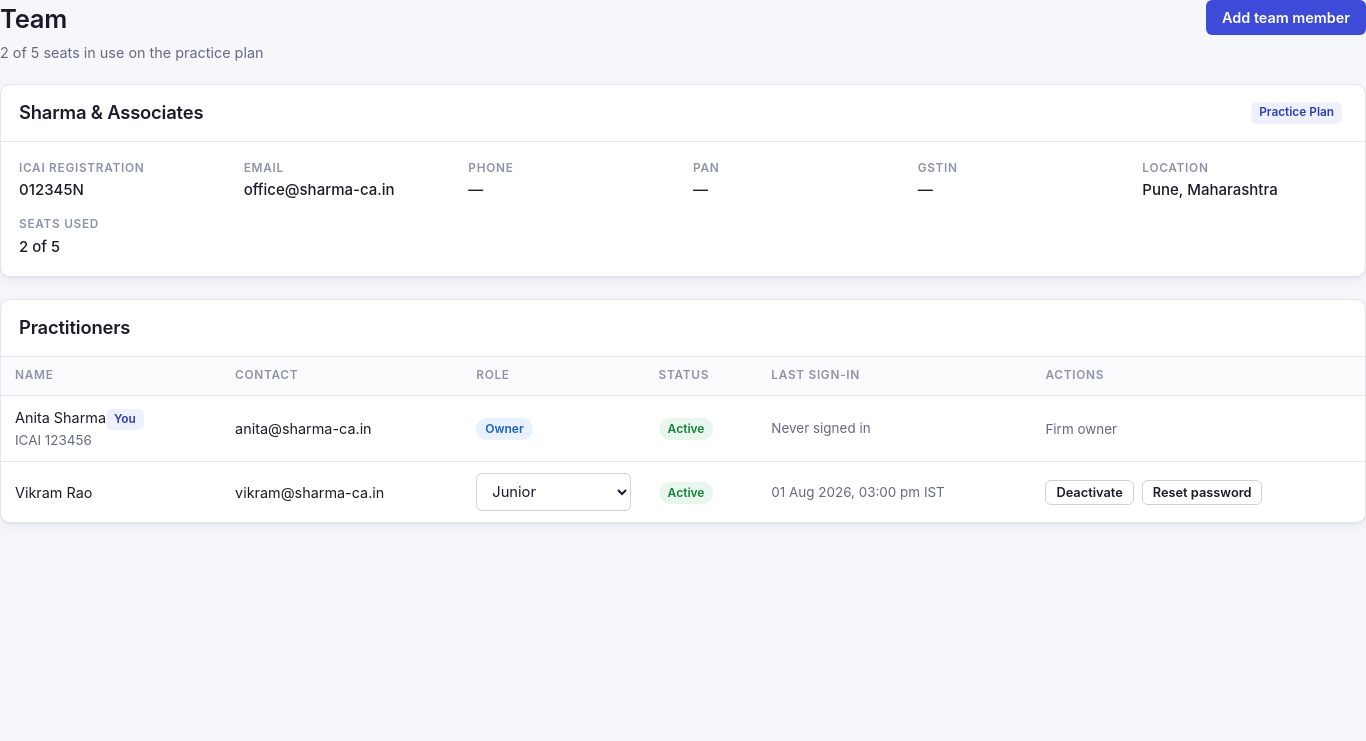
Test: Adding a member › explains what a role grants before it is handed over
Click the button "Add team member". click: x=1286, y=18
box: [1206,0,1365,35]
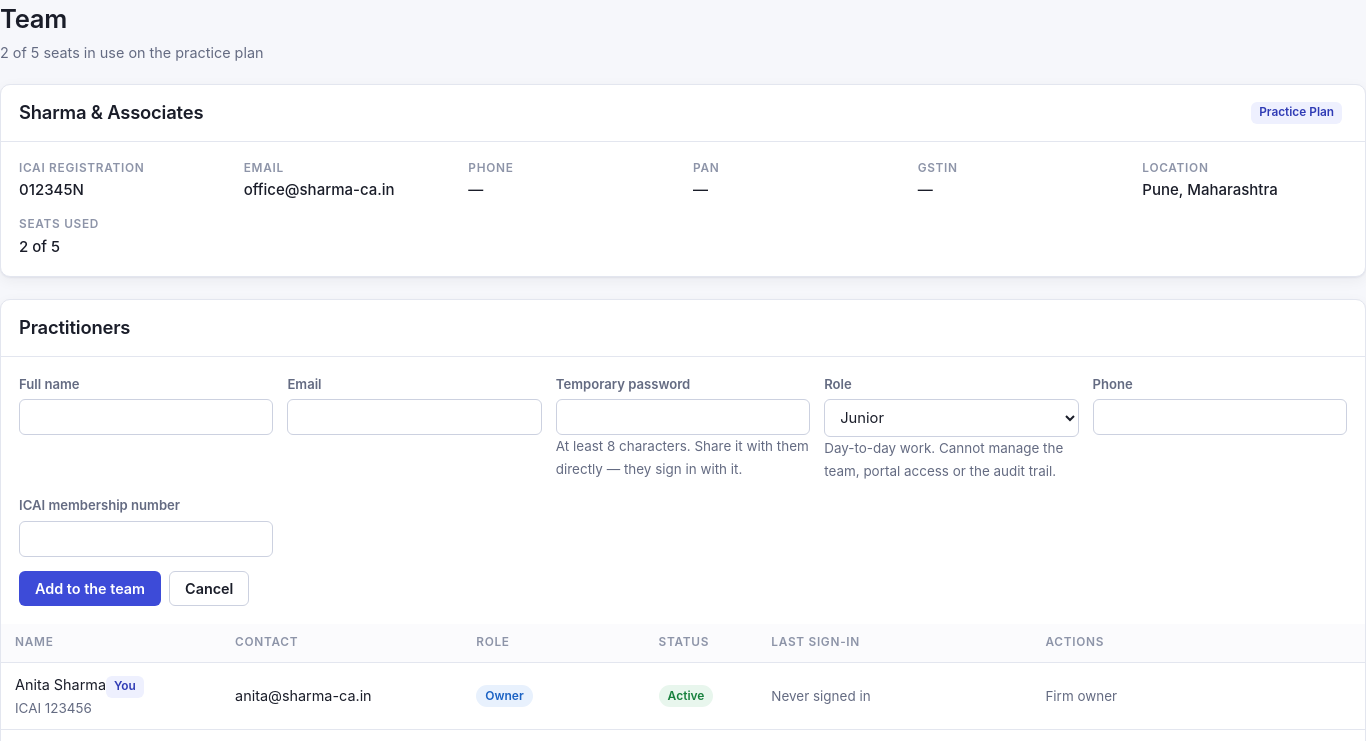
Select "Partner" in the dropdown labelled "Role". click: x=951, y=418
box: [824,399,1079,437]
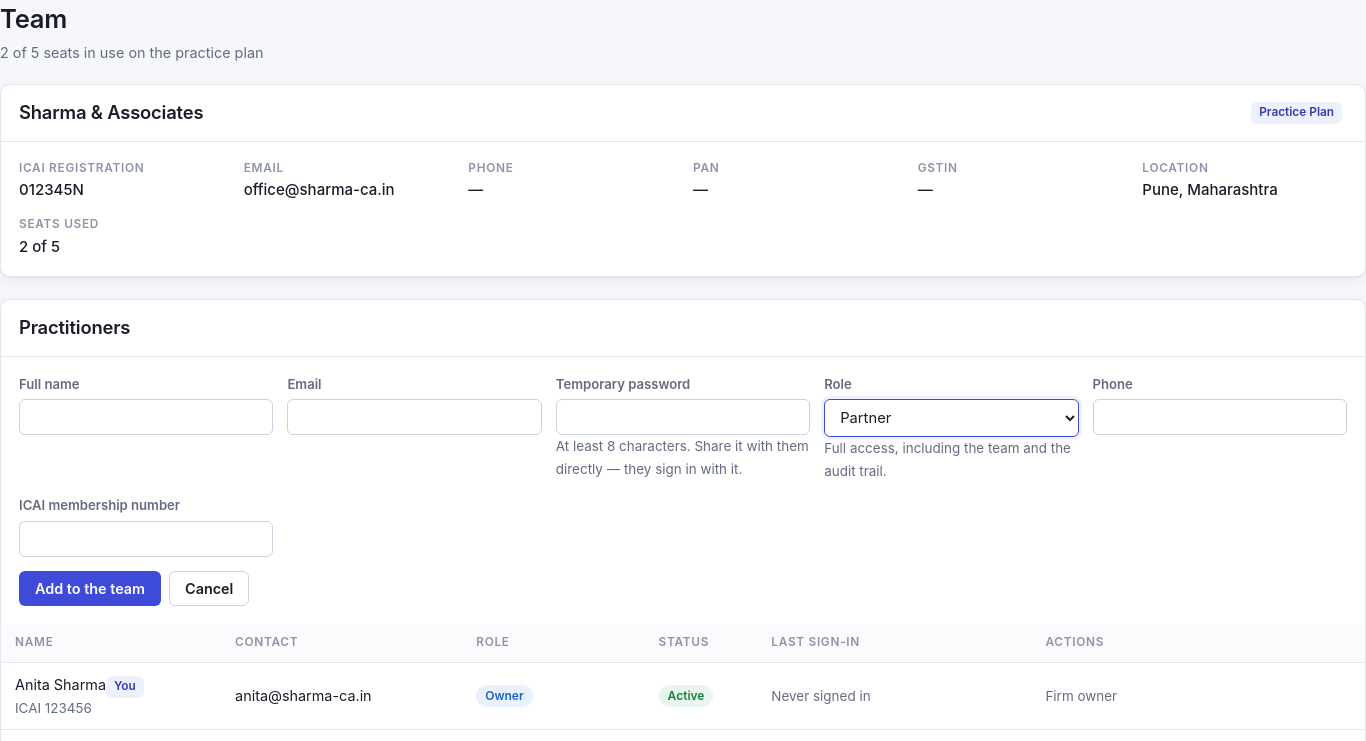
expect the text "Full access, including the team and the audit trail." is shown: met, box [824,440,1071,479]
